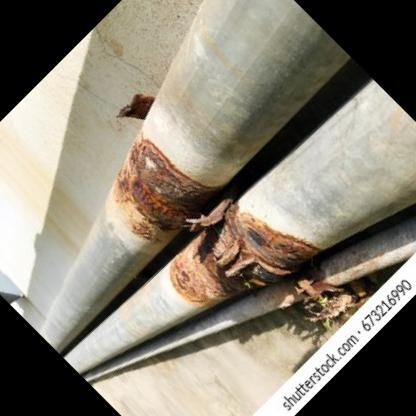burst: (108, 132, 196, 232), (206, 220, 298, 300)
